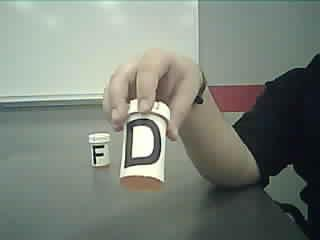Bottle D: (119, 96, 170, 194)
Bottle F: (87, 131, 114, 169)
